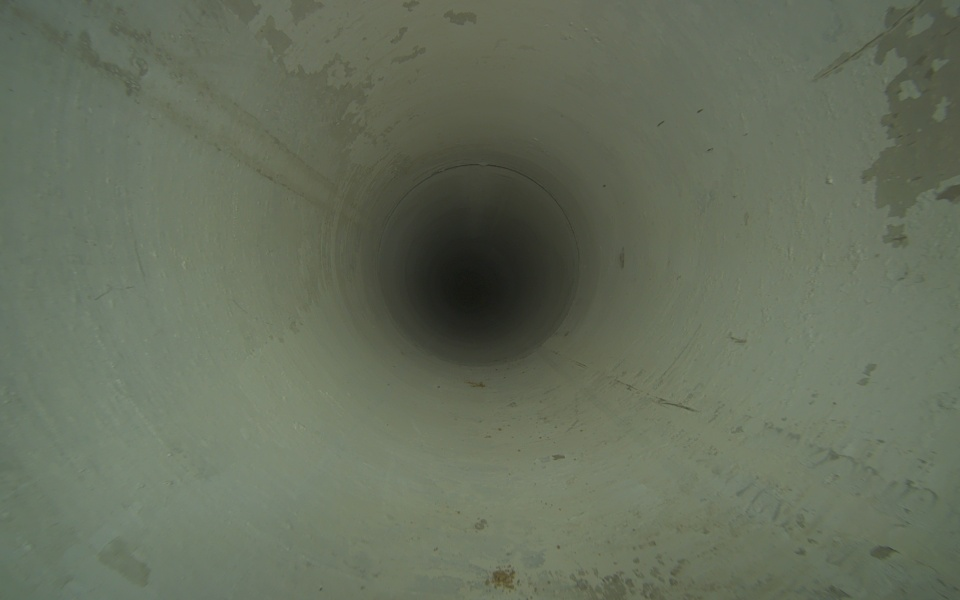circle1: (371, 160, 583, 373)
circle2: (434, 242, 511, 320)
